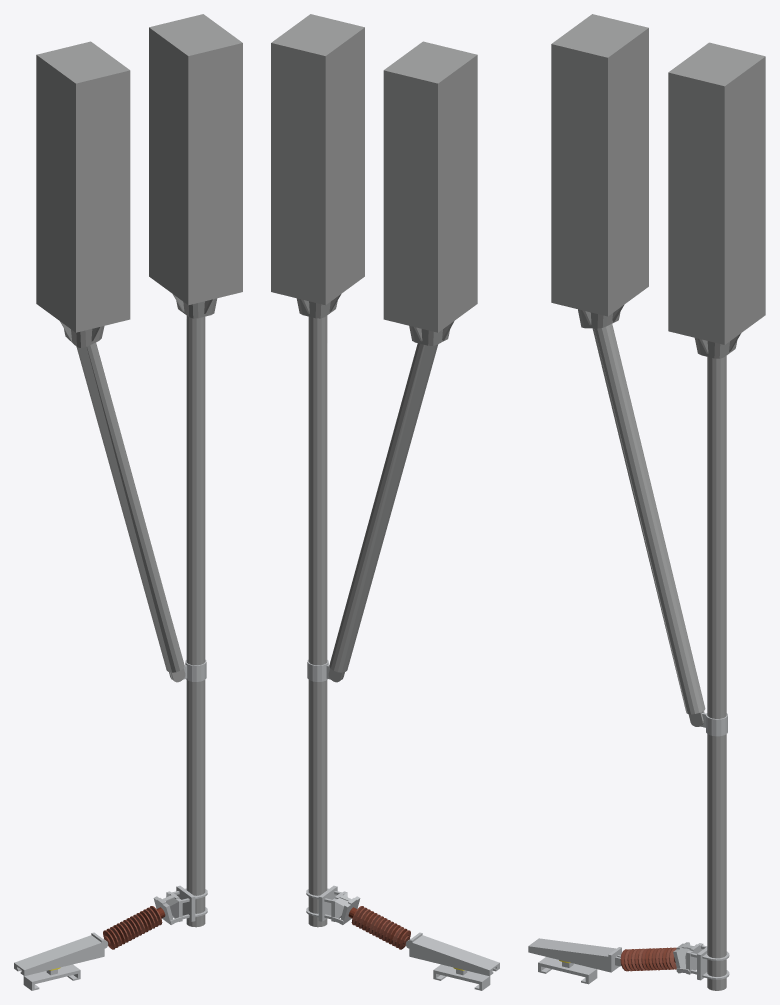
Rendered from rcr1_1.obj.
3 views of the same model, side by side, from view 1: azimuth 30°, elevation 25°; view 2: azimuth 150°, elevation 25°; view 3: azimuth 330°, elevation 25° (orthographic). The views are drawn at different scales.
Visible parts, largest first — view 1: 1.001; view 2: 1.001; view 3: 1.001.
Boxes of the visible parts, bbox=[...] form: 1.001: bbox=[14, 14, 242, 990]; 1.001: bbox=[271, 14, 499, 990]; 1.001: bbox=[528, 14, 765, 990].
Bounding box in the file's own units: 0.8884 × 3.8 × 0.2979.
Materials: 1 (1 with a texture image).
